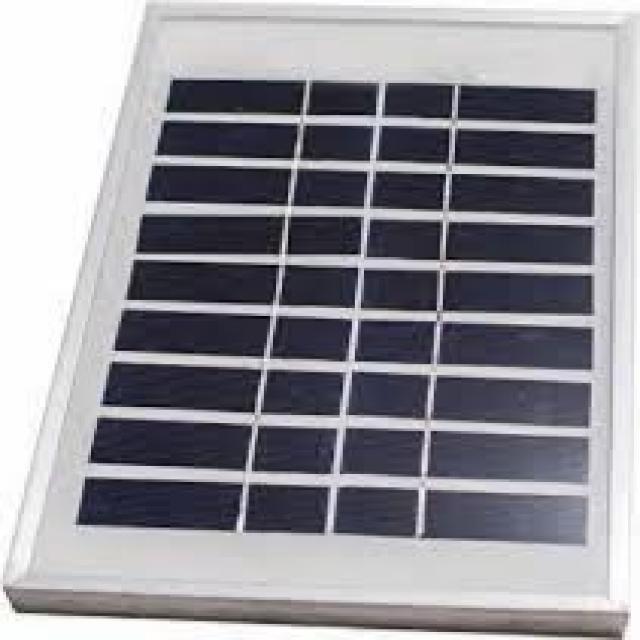no faulty: (80, 41, 607, 553)
